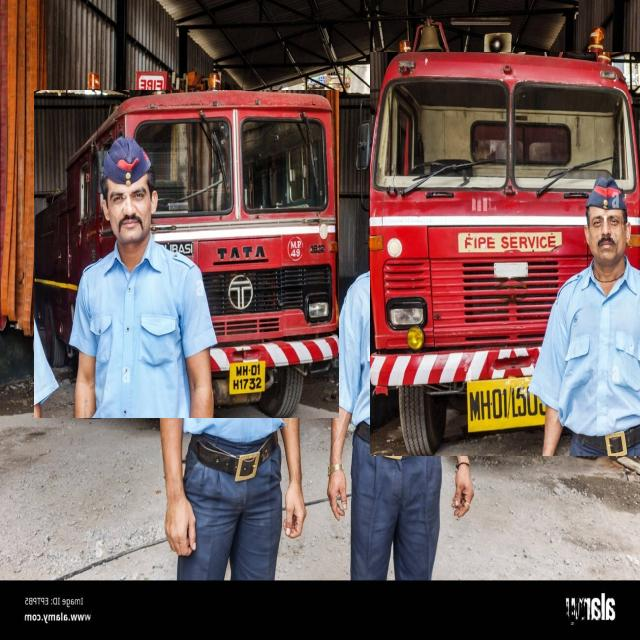emergency: (370, 53, 640, 456), (34, 90, 339, 418)
